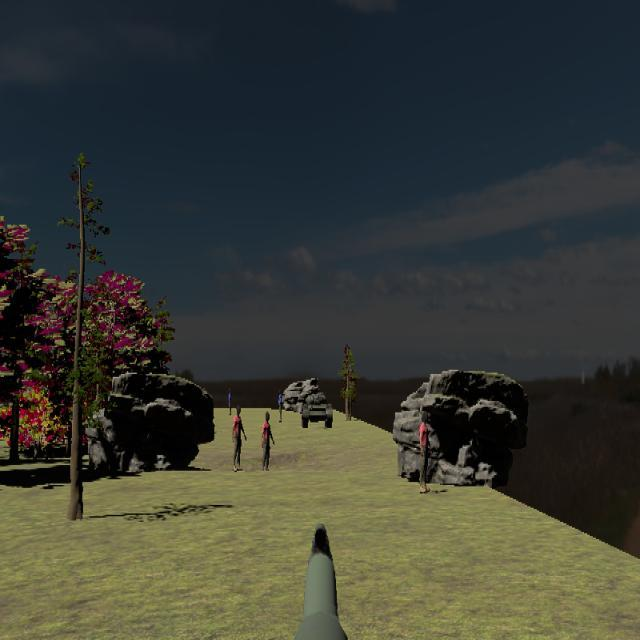Human: (418, 412, 433, 495), (232, 406, 247, 472), (261, 412, 275, 473)
Tank: (301, 391, 334, 430)
